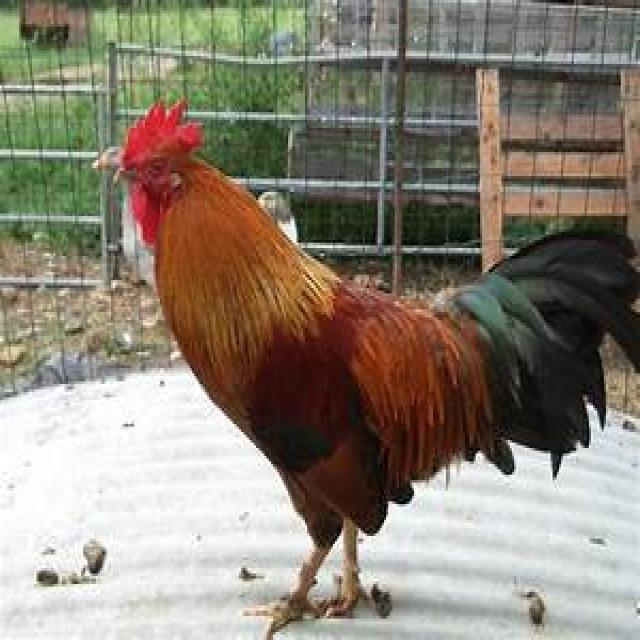hen: (94, 101, 640, 640)
